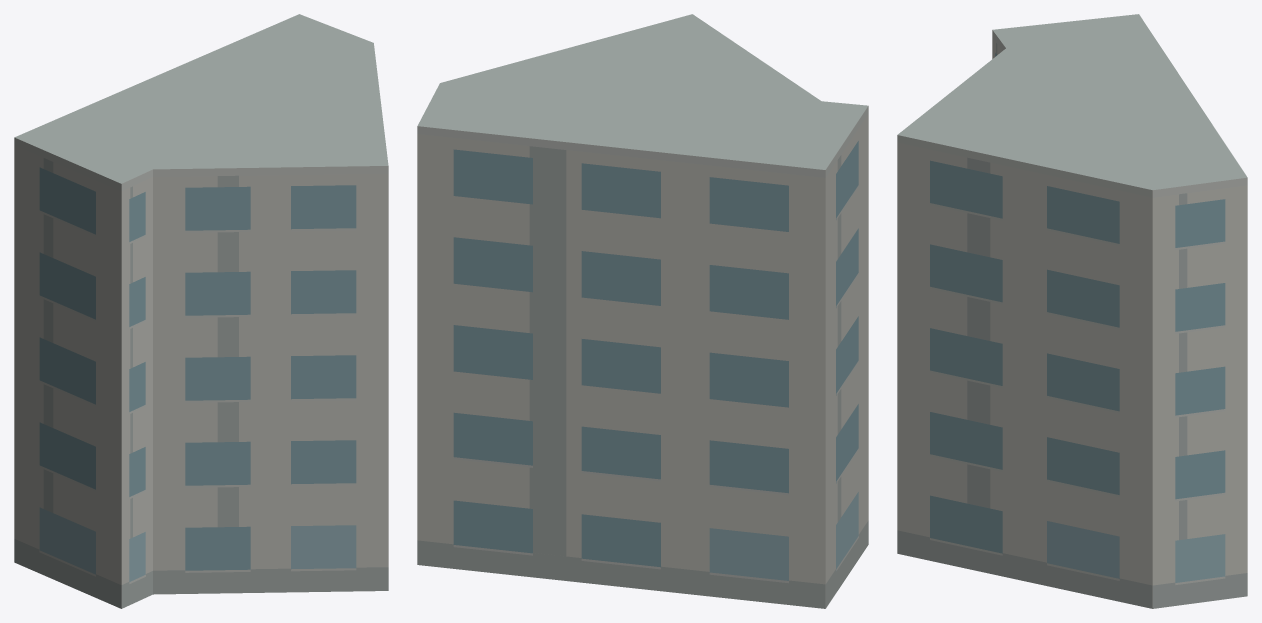
The model's file is survey-upis-32886446.glb.
3 renders of one model, left to right at view 1: azimuth 30°, elevation 25°; view 2: azimuth 150°, elevation 25°; view 3: azimuth 270°, elevation 25°, orthographic. The views are drawn at different scales.
Visible parts, largest first — view 1: survey-upis-32886446.tmp; view 2: survey-upis-32886446.tmp; view 3: survey-upis-32886446.tmp.
Boxes of the visible parts, left/top/right/bottom form: survey-upis-32886446.tmp: left=14, top=14, right=388, bottom=608; survey-upis-32886446.tmp: left=417, top=14, right=868, bottom=608; survey-upis-32886446.tmp: left=897, top=14, right=1247, bottom=608.
Bounding box in the file's own units: 12.19 × 13.5 × 10.25.
